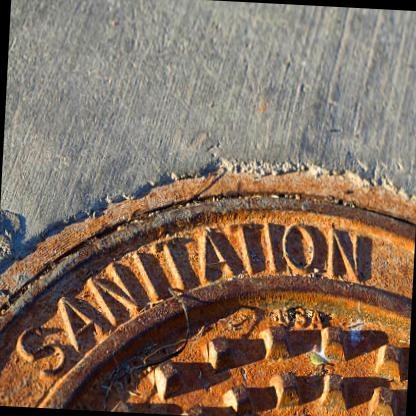manholes: (0, 98, 416, 416)
